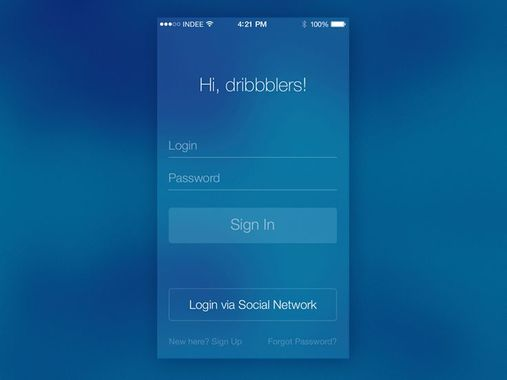_form_: (64, 1, 480, 380)
button: (167, 206, 339, 246), (167, 286, 338, 323)
field_line: (164, 136, 337, 161), (167, 170, 339, 193)
